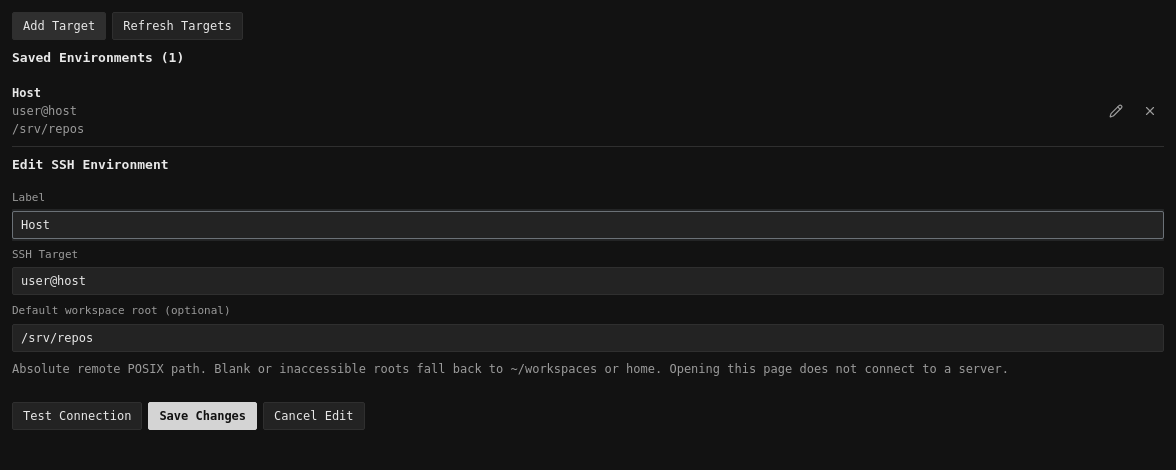
Test: canonical SSH Targets › retains the draft after main refuses an in-use edit
Check: the heading "Saved Environments (1)" is shown, box [12,50,184,65]
Replace the text in the field labelled "Label" with "Draft" at point(588, 224), box [12,210,1164,238]
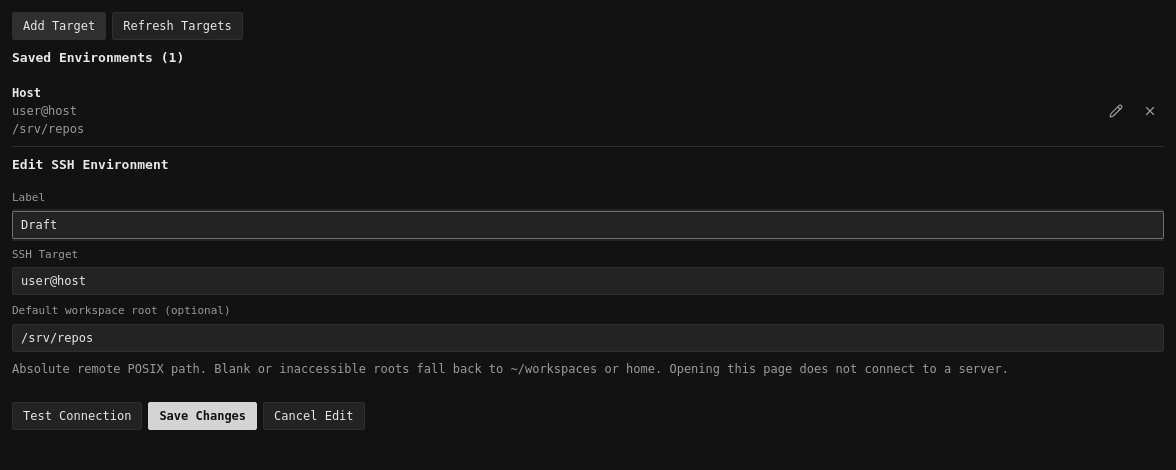
Click the button "Save Changes" at point(203, 416), box [148,402,257,430]
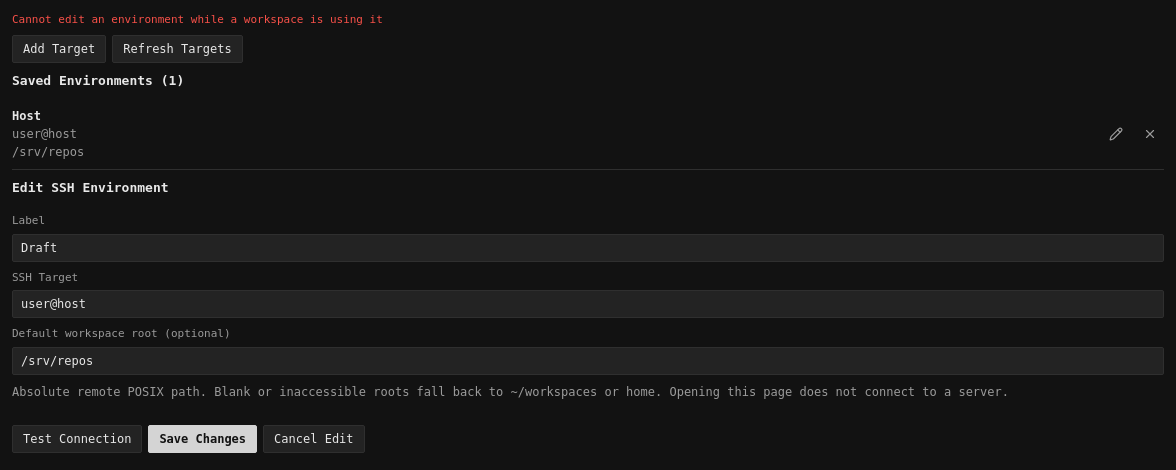
Check: the message shows "using it", box [12,13,383,26]
